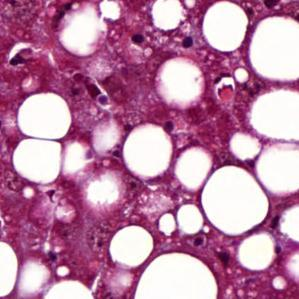steatosis: (196, 163, 273, 235), (119, 118, 174, 178), (20, 88, 68, 141), (106, 223, 156, 269)
